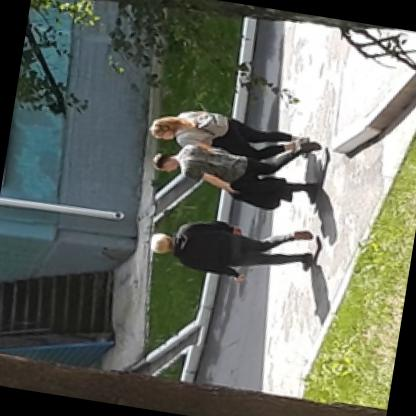Human Body: (145, 112, 334, 214), (140, 198, 325, 296), (144, 94, 314, 169)
